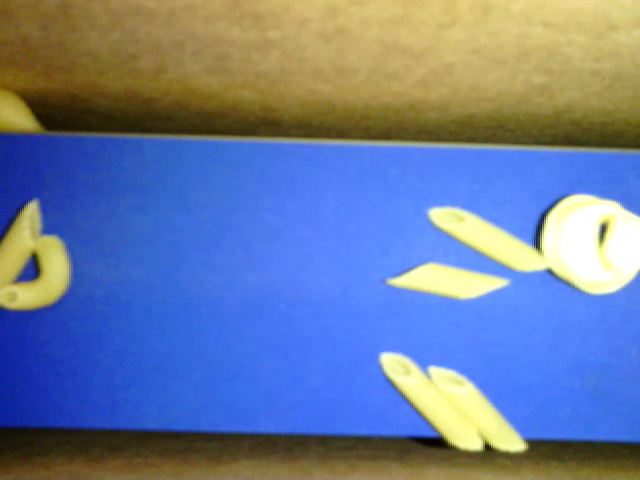elbow: (1, 234, 72, 309)
penne: (378, 349, 485, 451), (428, 363, 529, 453), (426, 205, 550, 273), (385, 260, 511, 300), (1, 198, 43, 287)
tortellini: (539, 193, 638, 295)
